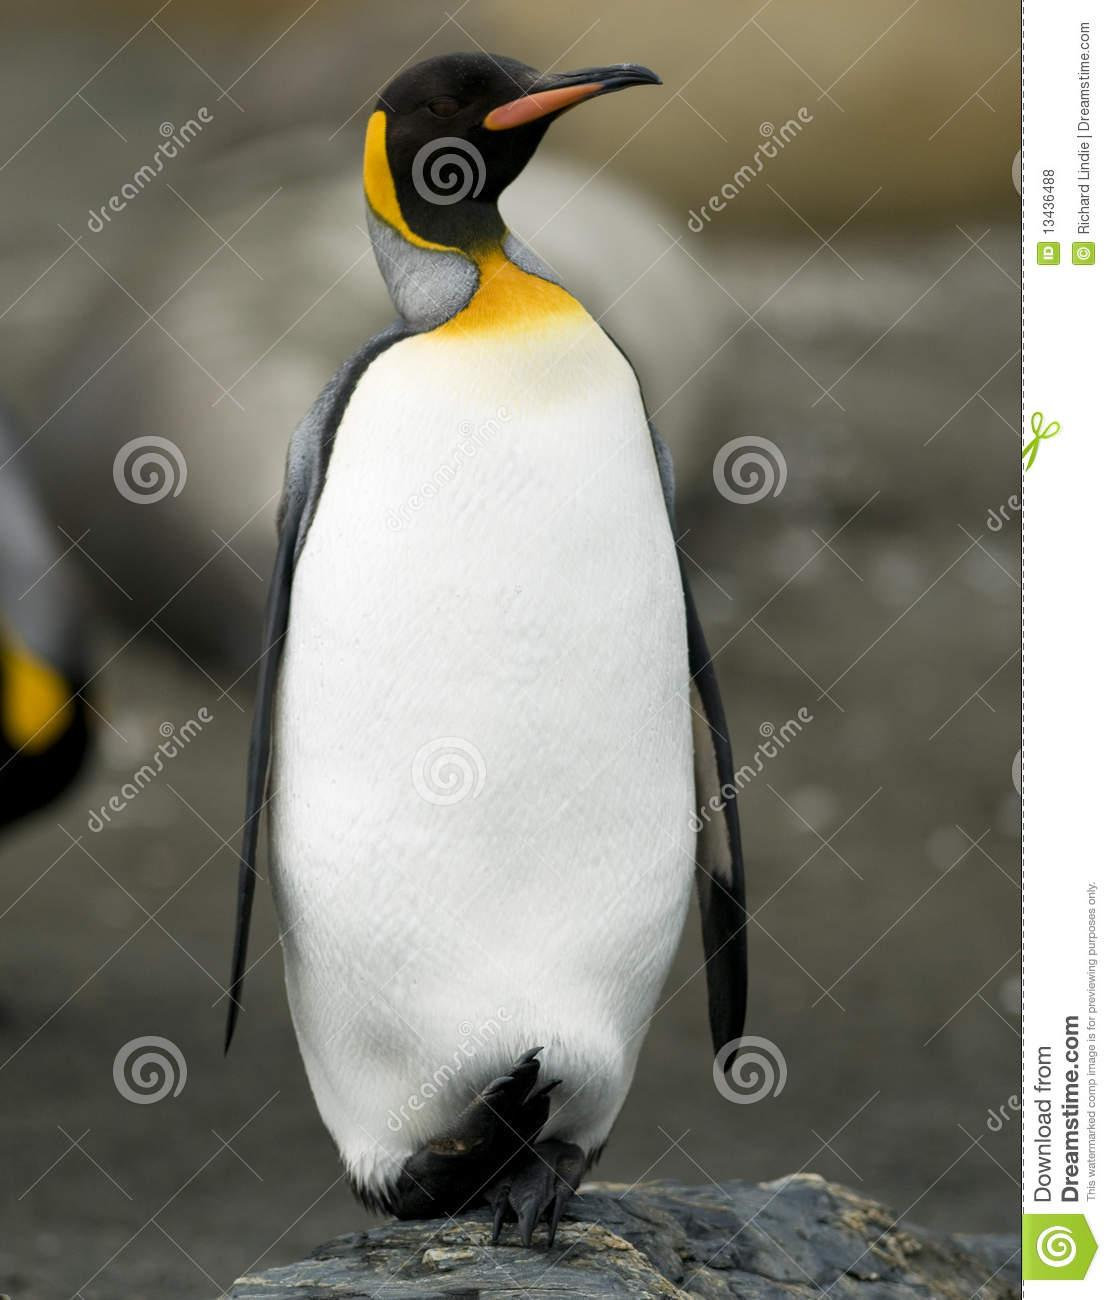king: (220, 22, 822, 1235)
